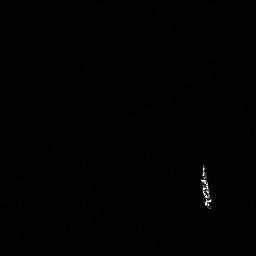ship: (197, 160, 218, 213)
